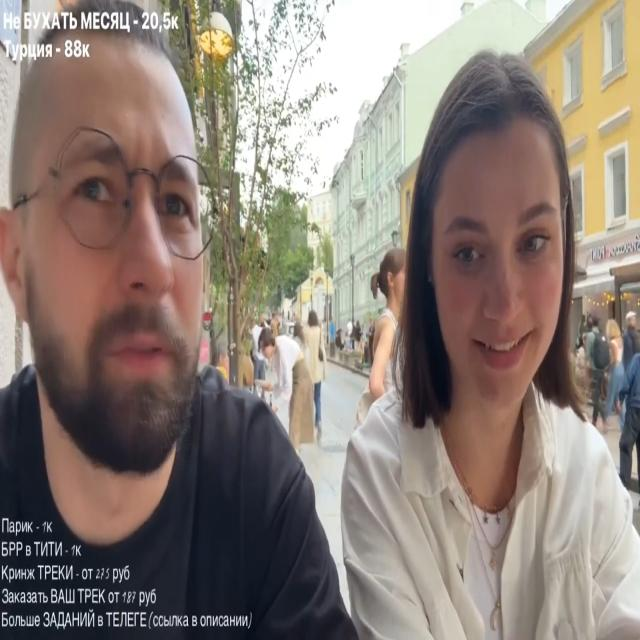Person: (0, 26, 358, 640), (330, 77, 640, 639), (360, 249, 406, 430), (252, 320, 306, 442), (614, 318, 640, 490), (584, 317, 615, 432)
